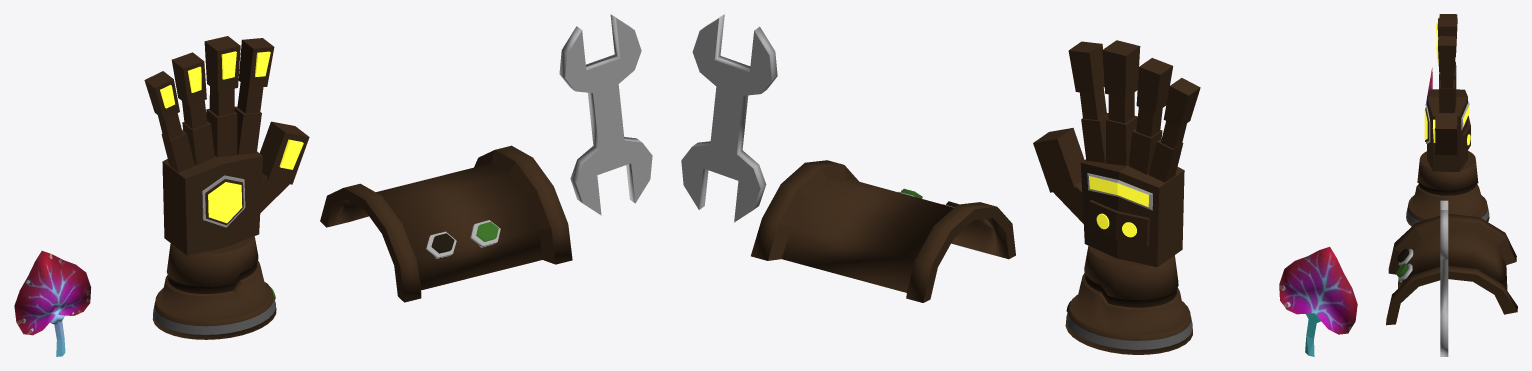
The model's file is вор.fbx.
3 renders of one model, left to right at view 1: azimuth 30°, elevation 25°; view 2: azimuth 150°, elevation 25°; view 3: azimuth 270°, elevation 25°, orthographic. The views are drawn at different scales.
Visible parts, largest first — view 1: Окружность.002, Окружность.001, Цилиндр.009, Куб.052, Плоскость.009, Куб.045, Куб.049, Куб.036, Цилиндр.008, Куб.035, Цилиндр.012, Куб.034 (+9 smaller); view 2: Окружность.002, Окружность.001, Цилиндр.009, Куб.052, Плоскость.009, Куб.045, Куб.036, Куб.035, Куб.047, Куб.034, Цилиндр.012, Куб.033 (+9 smaller); view 3: Окружность.002, Цилиндр.009, Куб.052, Окружность.001, Куб.045, Куб.035, Куб.044, Цилиндр.008, Куб.036, Куб.043, Куб.047, Куб.049 (+4 smaller).
Part boxes in pixels (bbox=[...]): Окружность.002: bbox=[320, 145, 572, 302]; Окружность.001: bbox=[559, 14, 652, 215]; Цилиндр.009: bbox=[152, 236, 276, 339]; Куб.052: bbox=[162, 151, 262, 255]; Плоскость.009: bbox=[14, 251, 91, 356]; Куб.045: bbox=[259, 121, 309, 184]; Куб.049: bbox=[202, 175, 245, 227]; Куб.036: bbox=[204, 36, 240, 92]; Цилиндр.008: bbox=[426, 220, 500, 258]; Куб.035: bbox=[238, 38, 274, 88]; Цилиндр.012: bbox=[153, 297, 275, 334]; Куб.034: bbox=[171, 52, 206, 105]; Окружность.002: bbox=[751, 160, 1015, 302]; Окружность.001: bbox=[681, 14, 777, 222]; Цилиндр.009: bbox=[1065, 245, 1192, 354]; Куб.052: bbox=[1080, 159, 1184, 267]; Плоскость.009: bbox=[1279, 246, 1357, 356]; Куб.045: bbox=[1033, 127, 1084, 192]; Куб.036: bbox=[1102, 40, 1140, 98]; Куб.035: bbox=[1068, 41, 1104, 93]; Куб.047: bbox=[1088, 200, 1149, 247]; Куб.034: bbox=[1136, 58, 1173, 112]; Цилиндр.012: bbox=[1066, 309, 1192, 349]; Куб.033: bbox=[1163, 78, 1200, 127]; Окружность.002: bbox=[1386, 214, 1517, 325]; Цилиндр.009: bbox=[1406, 151, 1489, 226]; Куб.052: bbox=[1427, 89, 1467, 171]; Окружность.001: bbox=[1440, 200, 1448, 356]; Куб.045: bbox=[1435, 113, 1457, 155]; Куб.035: bbox=[1438, 36, 1455, 72]; Куб.044: bbox=[1439, 80, 1455, 112]; Цилиндр.008: bbox=[1396, 248, 1413, 282]; Куб.036: bbox=[1437, 18, 1457, 57]; Куб.043: bbox=[1440, 72, 1453, 88]; Куб.047: bbox=[1461, 115, 1470, 155]; Куб.049: bbox=[1424, 105, 1430, 143].
Size of the model in its own units: 497 by 200 by 120.
